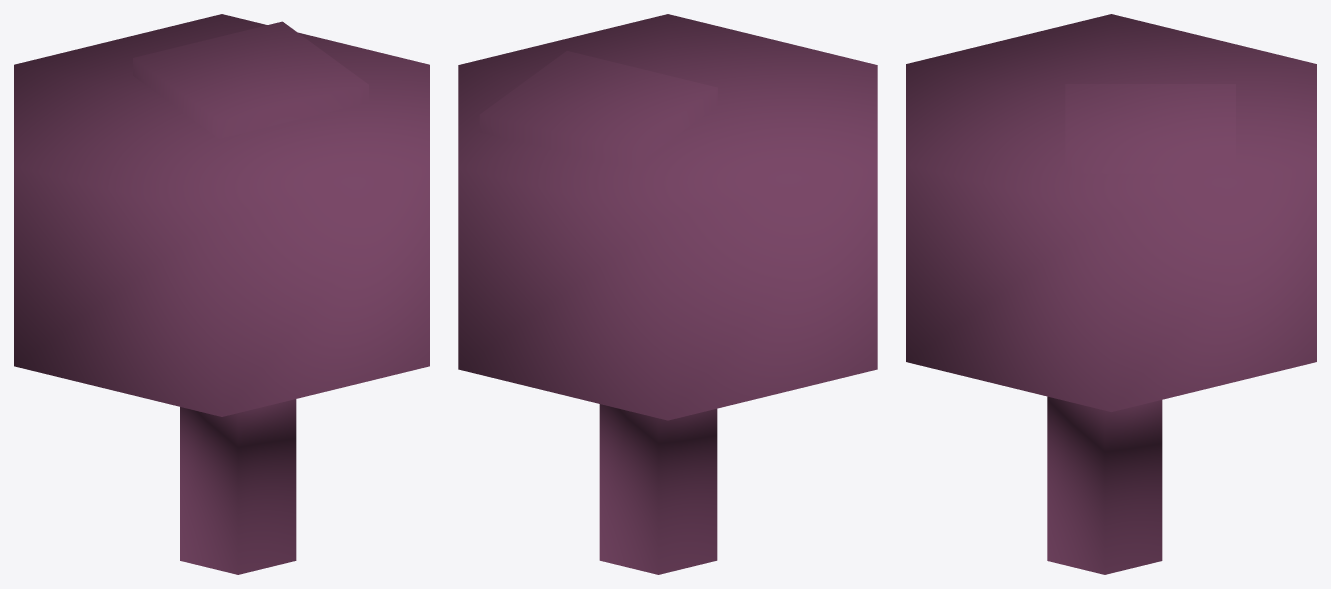
Rendered from ps2_jrpg_forest_tree.obj.
The picture shows the model from 3 angles, left to right: view 1: azimuth 30°, elevation 25°; view 2: azimuth 150°, elevation 25°; view 3: azimuth 270°, elevation 25°; orthographic projection. The views are drawn at different scales.
Bounding box in the file's own units: 2 × 2.07 × 1.73.
